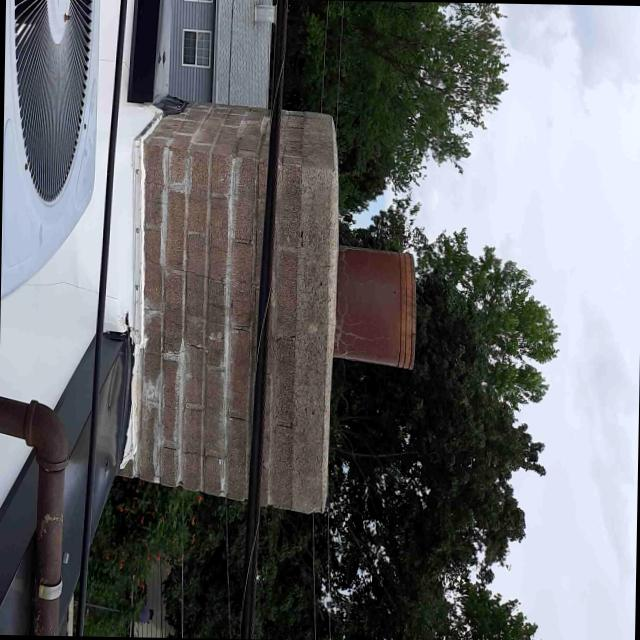SPLIT-SYSTEM: (0, 0, 132, 326)
